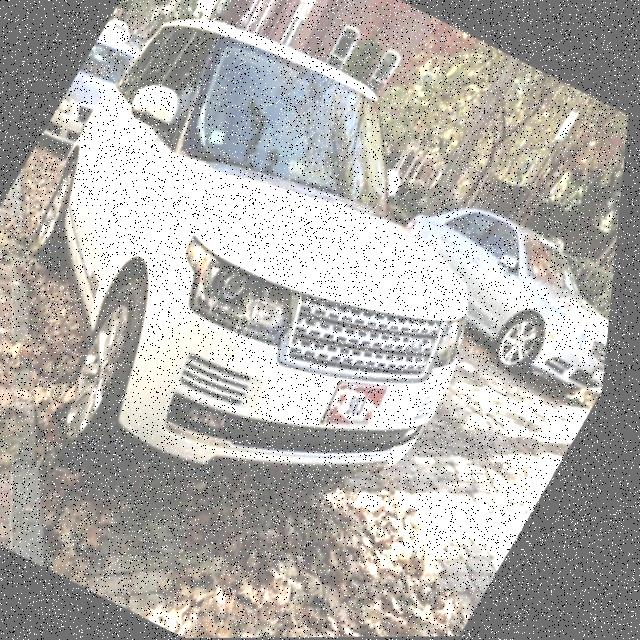license_plate: (333, 365, 396, 434)
